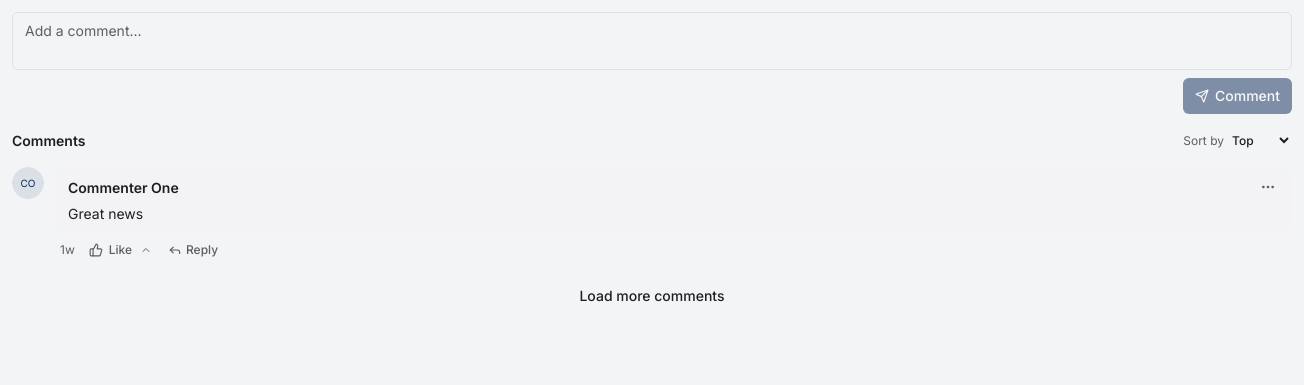
CommentThread › loads more comments with the cursor and switches sort order
Check: the text "Great news" is shown, box 68,205 -> 143,222
Click the button "Load more comments" at (652, 296), box 12,278 -> 1292,314
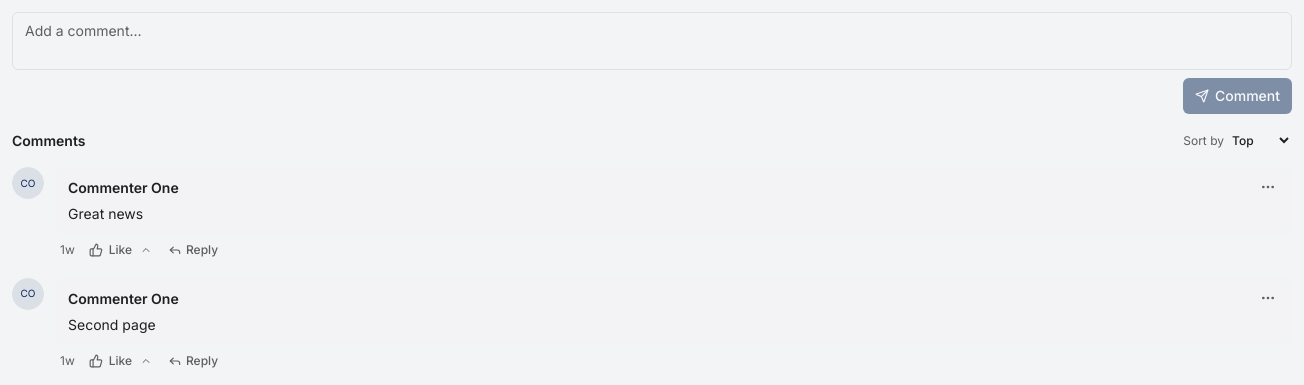
Check: the text "Second page" is shown, box 68,316 -> 156,333
Select "Newest" in the dropdown named "Sort comments" at (1260, 140), box 1228,130 -> 1292,151
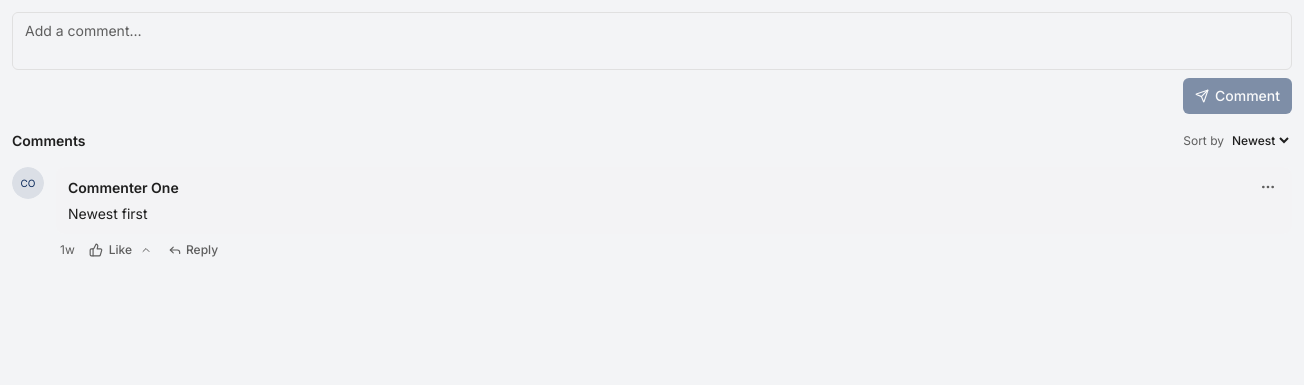
Check: the text "Newest first" is shown, box 68,205 -> 148,222
